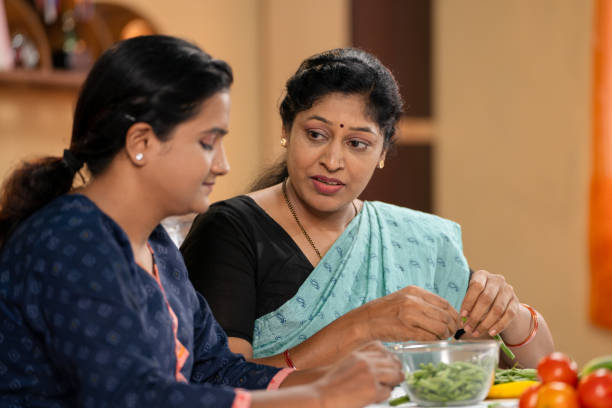45: (379, 338, 500, 406), (487, 365, 541, 399)
47: (517, 350, 612, 407), (519, 351, 578, 406), (551, 359, 612, 407), (578, 357, 612, 403), (535, 351, 579, 385), (528, 380, 580, 407), (577, 371, 612, 407), (578, 353, 612, 382), (581, 362, 612, 390), (585, 363, 612, 381)
60: (201, 338, 598, 406), (337, 339, 607, 406)
handguns: (180, 47, 557, 392), (0, 31, 306, 398), (133, 36, 409, 396), (0, 154, 77, 227), (1, 0, 54, 71), (118, 17, 155, 41)
